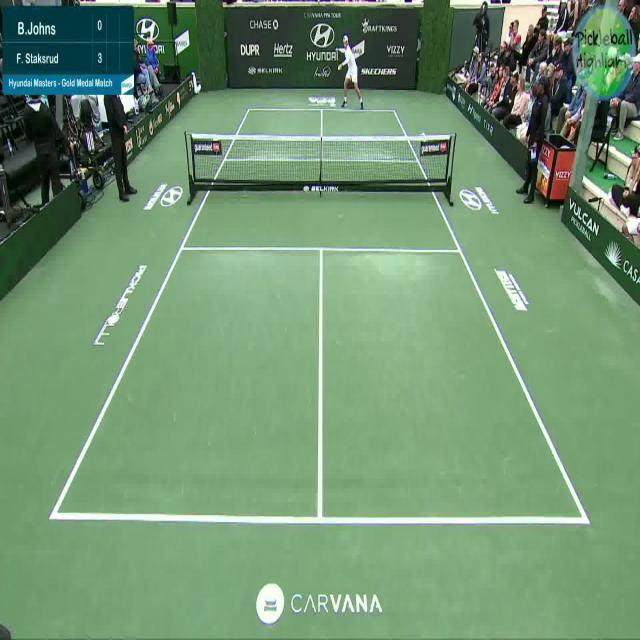ball: (337, 64, 341, 72)
